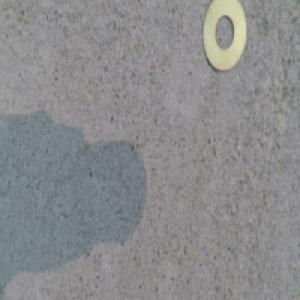Washer: (200, 6, 248, 72)
